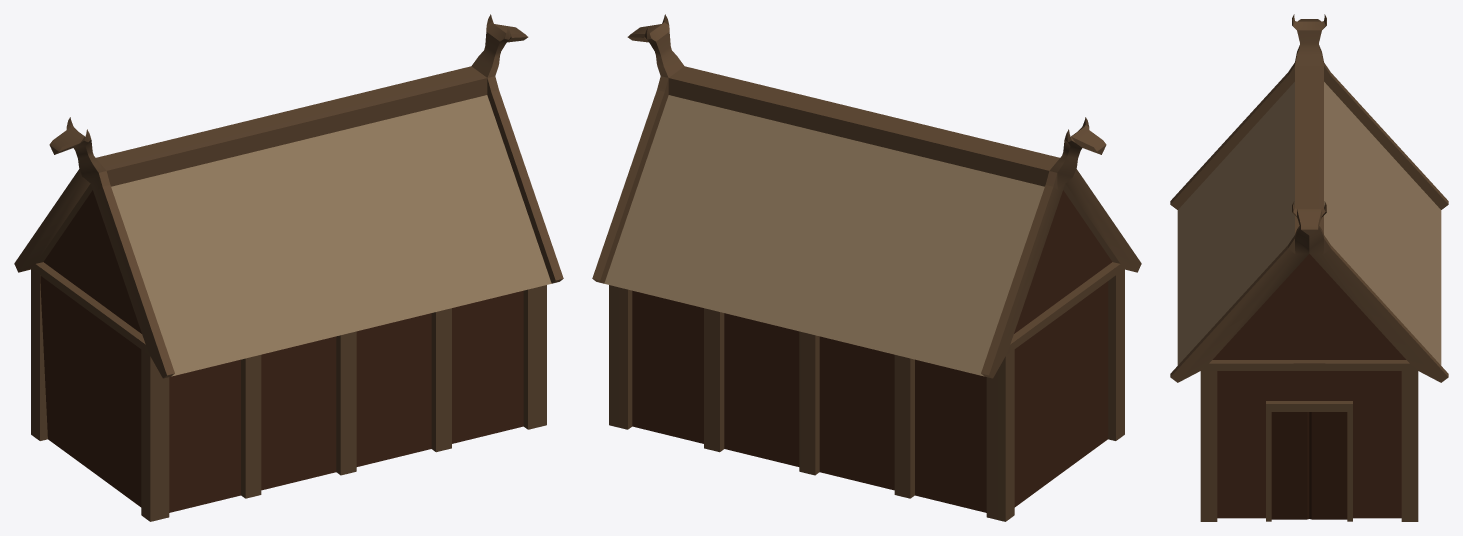
File: Viking home.fbx
The picture shows the model from 3 angles, left to right: view 1: azimuth 30°, elevation 25°; view 2: azimuth 150°, elevation 25°; view 3: azimuth 270°, elevation 25°; orthographic projection. The views are drawn at different scales.
Visible parts, largest first — view 1: house; view 2: house; view 3: house, door.
Part boxes in pixels (x1,y1,x2,y2): house: (14, 14, 563, 521); house: (592, 14, 1141, 521); house: (1170, 14, 1448, 521); door: (1266, 401, 1352, 521).
Size of the model in its own units: 2998 by 2188 by 1690.
